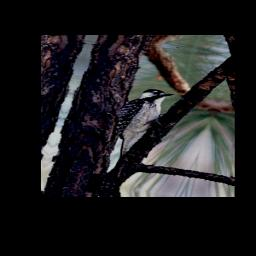Woodpecker: (103, 85, 176, 163)
